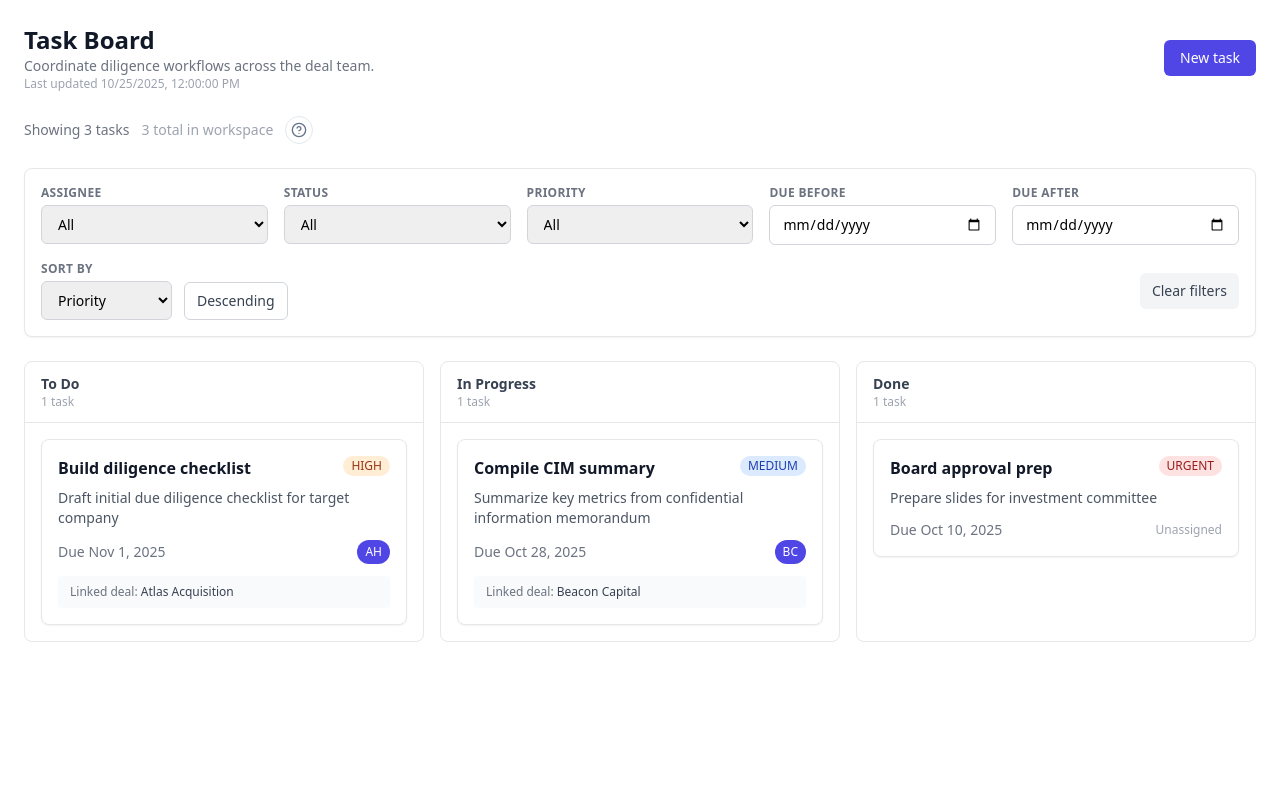
it: TaskBoard › opens task detail modal on card click and loads task detail data
This screenshot has width=1280, height=800.
Click the heading "Build diligence checklist".
click(154, 468)  # box [58,456,251,480]
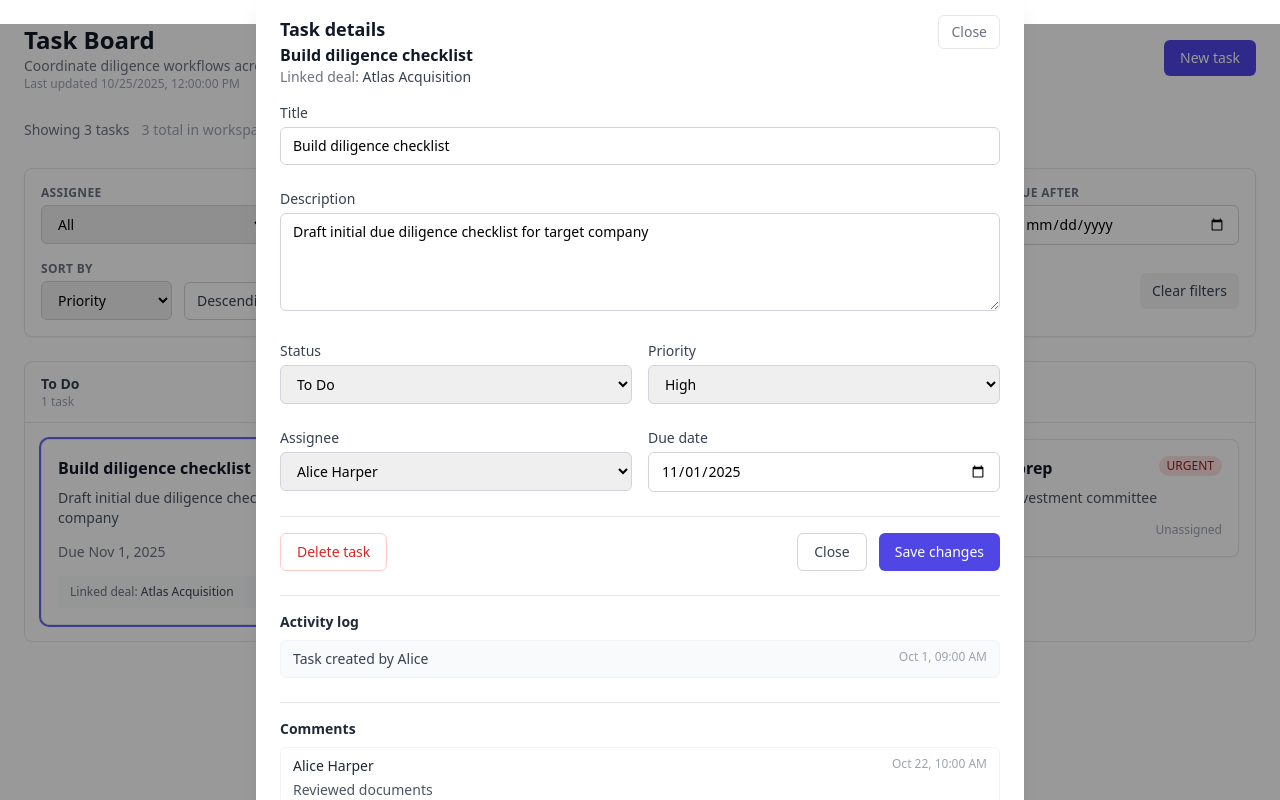
Now the text "Build diligence checklist" is shown, box [280,43,473,67]
Now the text "Reviewed documents" is shown, box [293,780,433,799]
